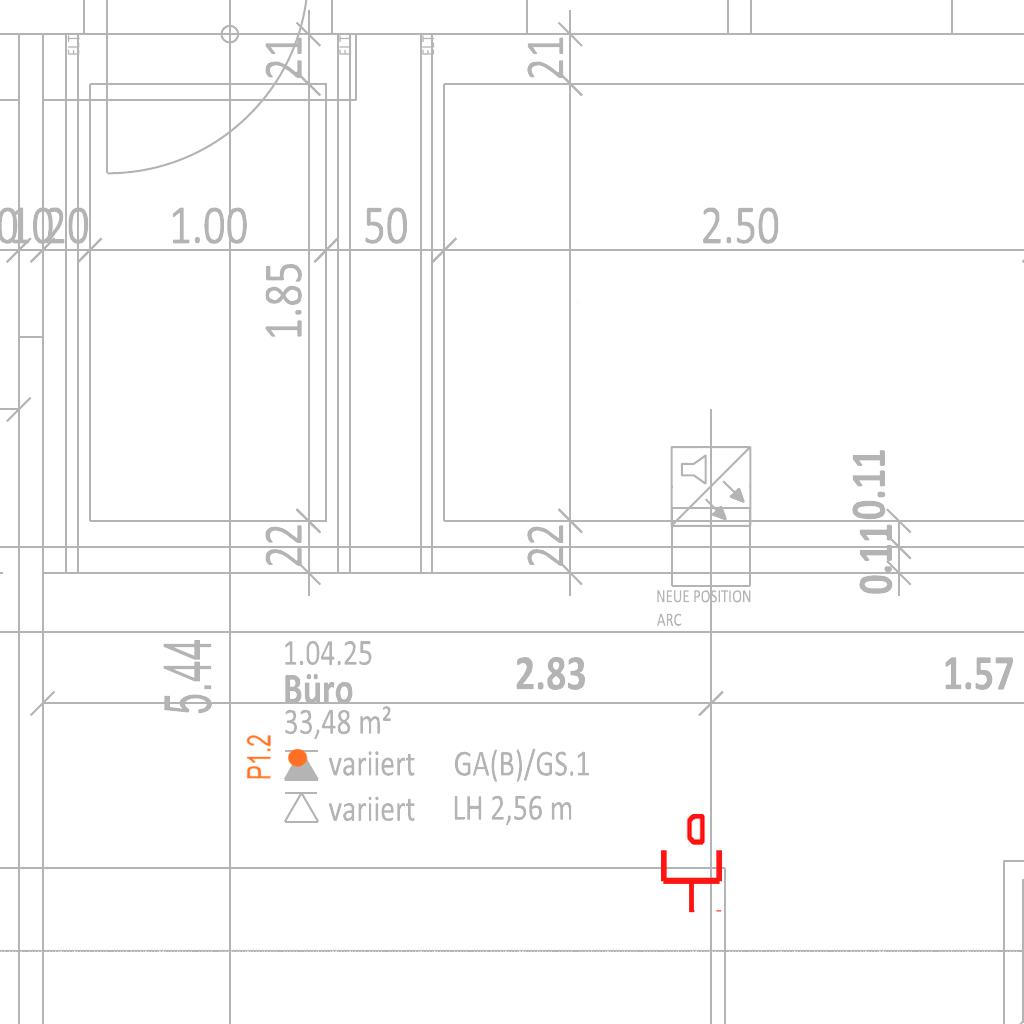Datenanschluss_einfach: (657, 814, 726, 914)
Downlight_LED_Einbauleuchten_Flur: (245, 734, 309, 780)
